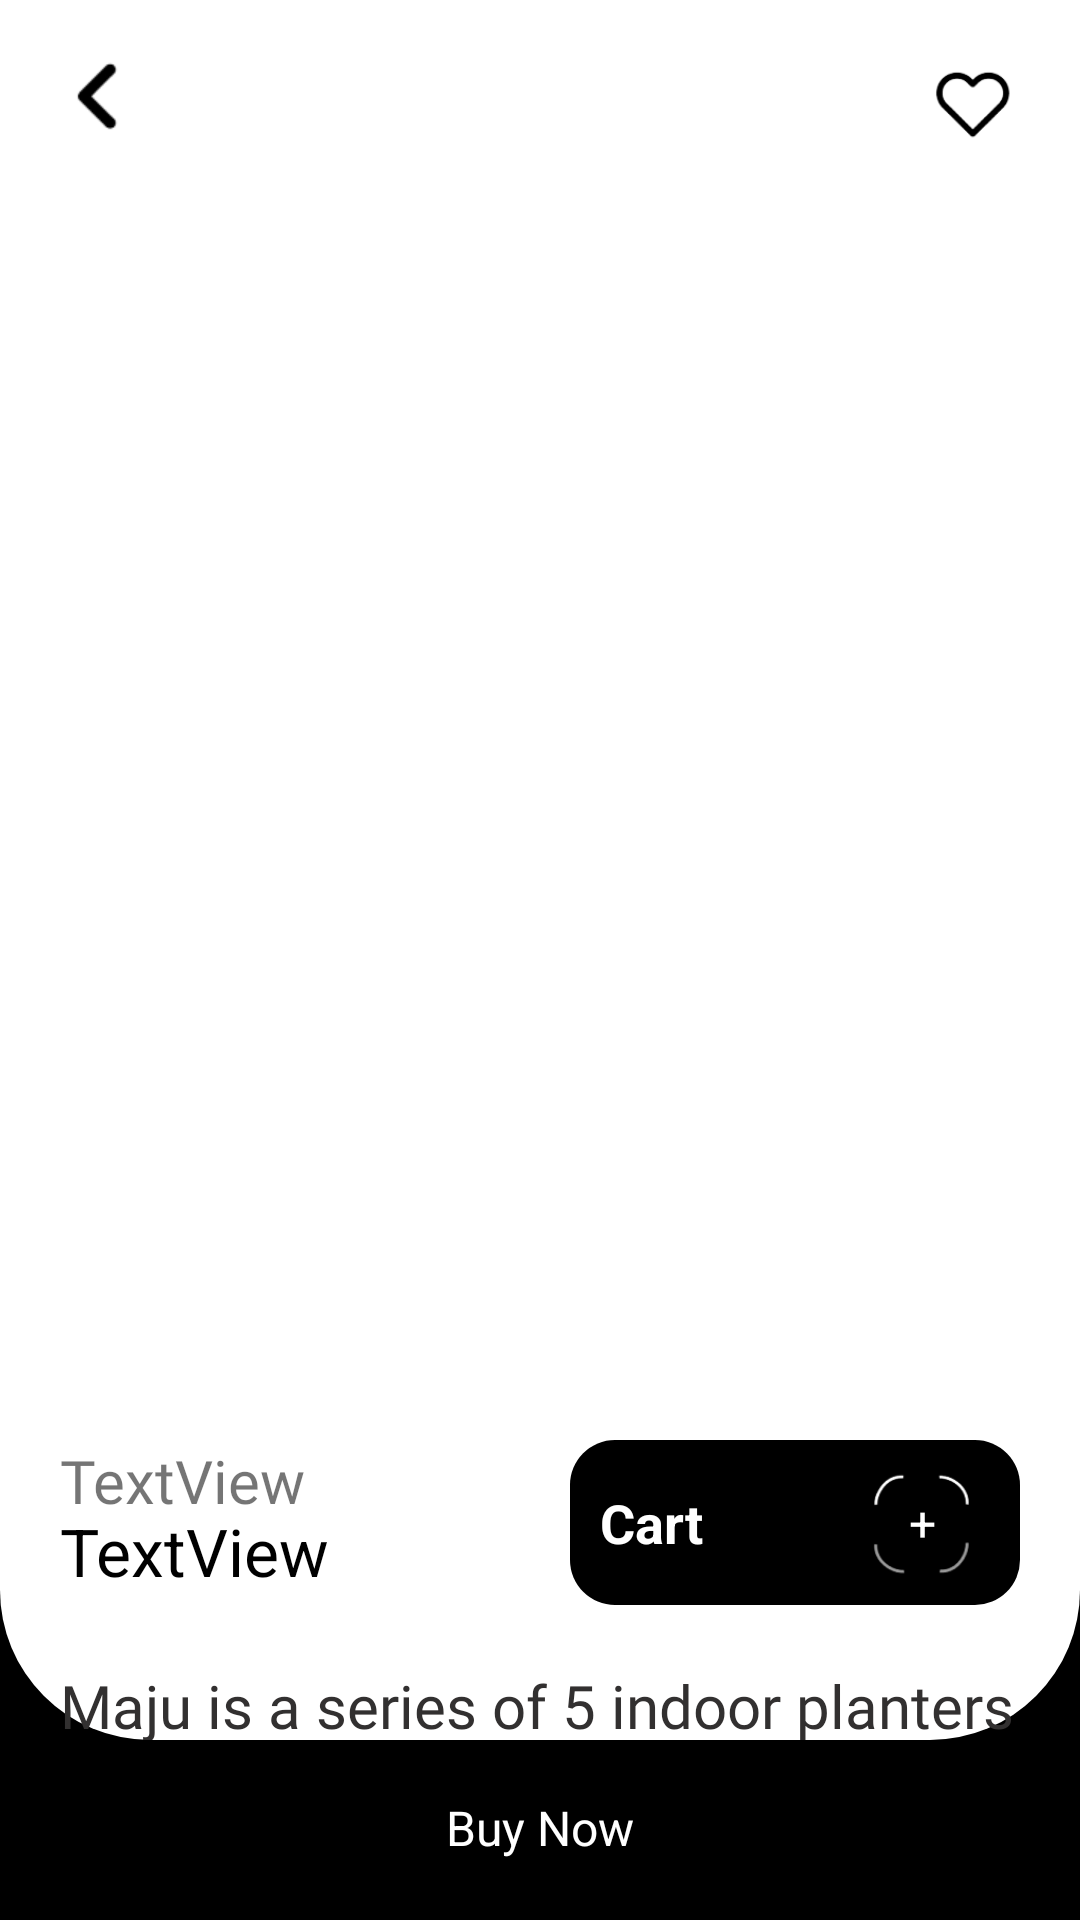

Icons on this 1080x1920 Android screen, each with the point to tap as (x=x, y=y):
back arrow: (x=97, y=96)
heart: (x=973, y=104)
